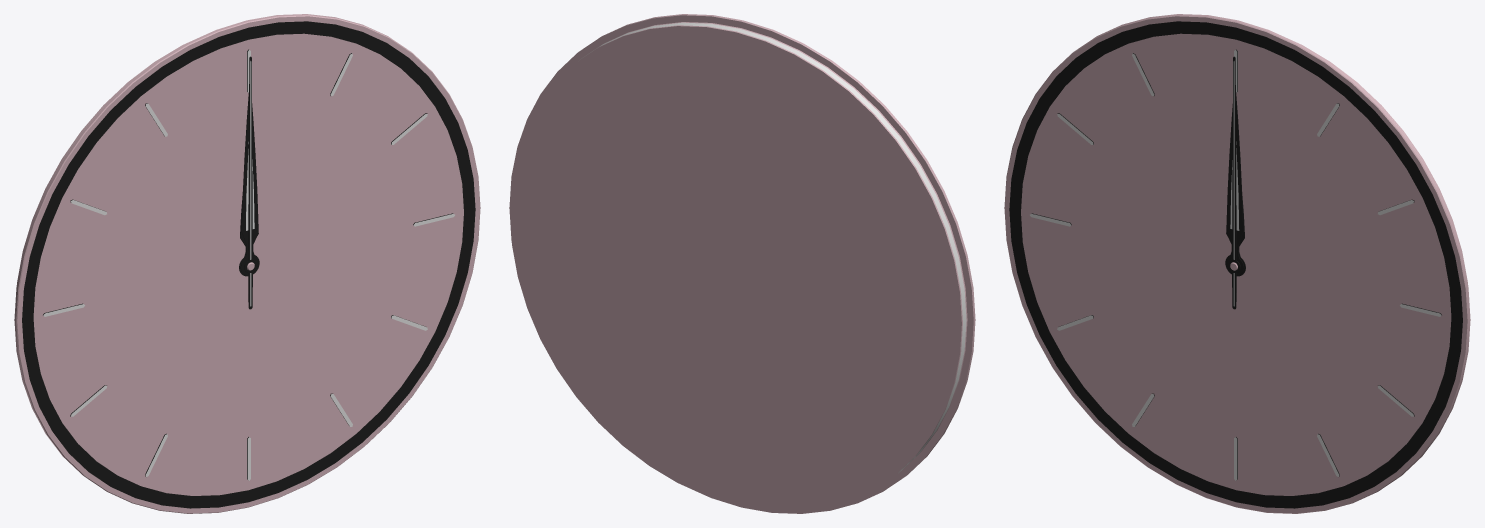
File: ClockBig.fbx
The picture shows the model from 3 angles, left to right: view 1: azimuth 30°, elevation 25°; view 2: azimuth 150°, elevation 25°; view 3: azimuth 330°, elevation 25°; orthographic projection.
Parts seen in each view (by area): view 1: ClockBig.001, ArrowMinute.003, ArrowSecond.003; view 2: ClockBig.001; view 3: ClockBig.001, ArrowMinute.003, ArrowSecond.003.
Part boxes in pixels (x1,y1,x2,y2): ClockBig.001: (14, 14, 480, 513); ArrowMinute.003: (240, 92, 259, 275); ArrowSecond.003: (244, 56, 256, 309); ClockBig.001: (509, 14, 975, 513); ClockBig.001: (1004, 14, 1470, 513); ArrowMinute.003: (1225, 92, 1244, 275); ArrowSecond.003: (1228, 56, 1240, 309).
Size of the model in its own units: 0.3891 by 0.3891 by 0.0151.
